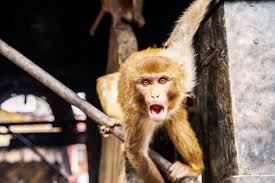monkey: (70, 30, 211, 157)
